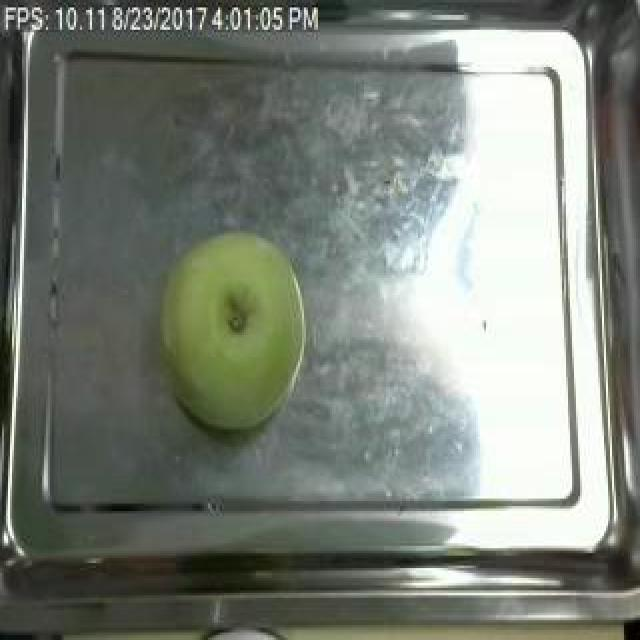Rotten Apple: (151, 234, 323, 438)
